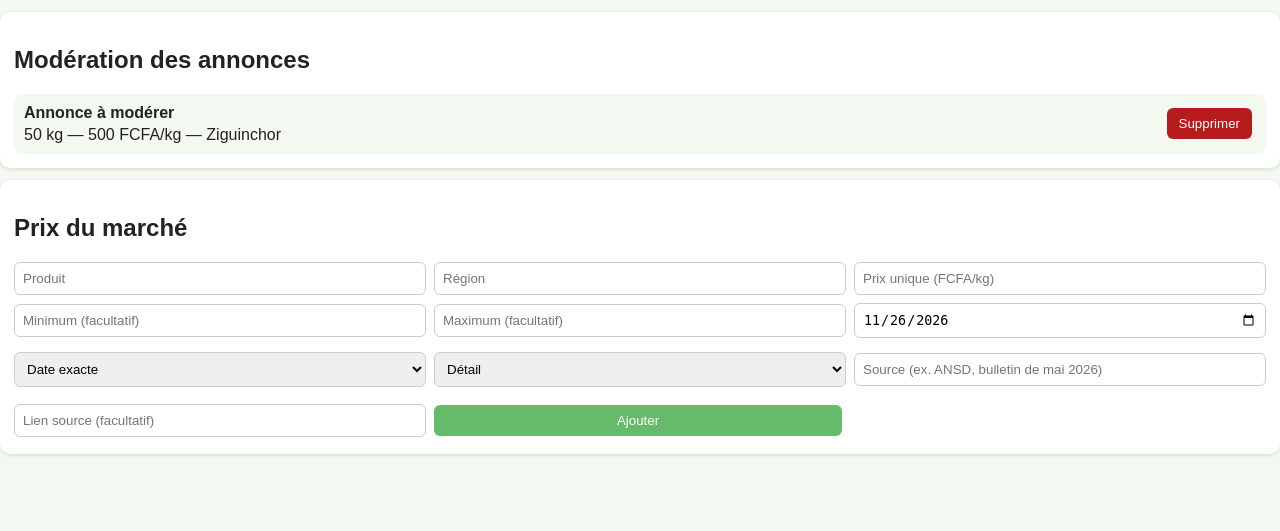
Test: Admin › exige les informations obligatoires avant d'ajouter un prix
Expected: the text "Annonce à modérer" is shown, [24, 104, 174, 121]
Click the button "Ajouter".
click(638, 420)  # box [434, 405, 842, 436]
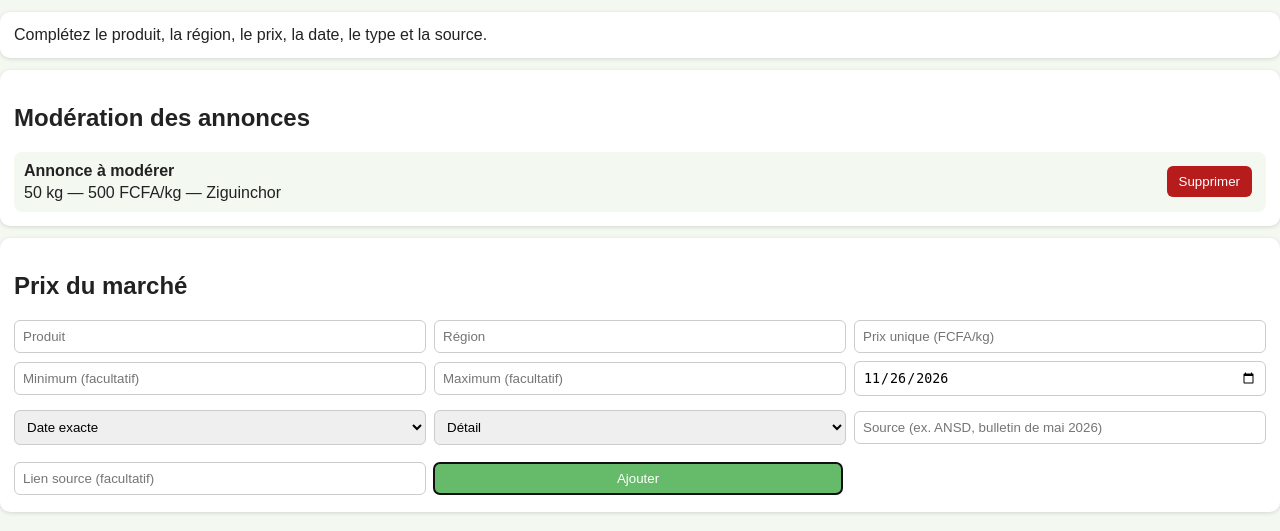
Result: the message reads "Complétez le produit, la région, le prix, la date, le type et la source." at [14, 26, 487, 43]
